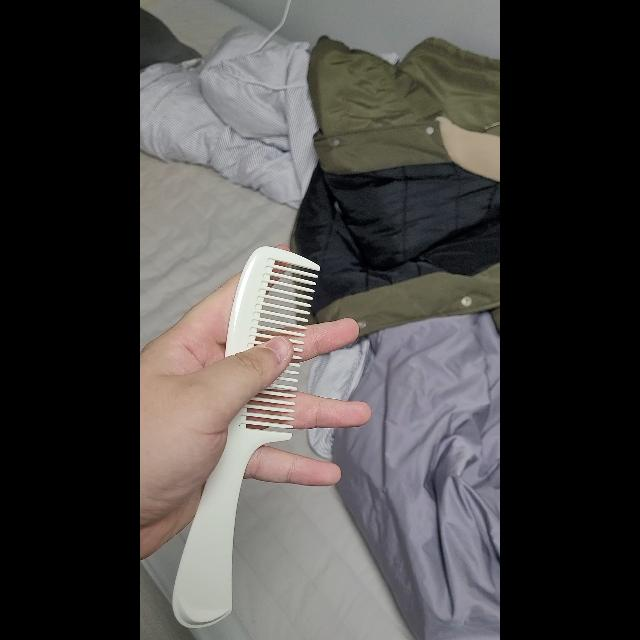COMB: (172, 246, 320, 628)
